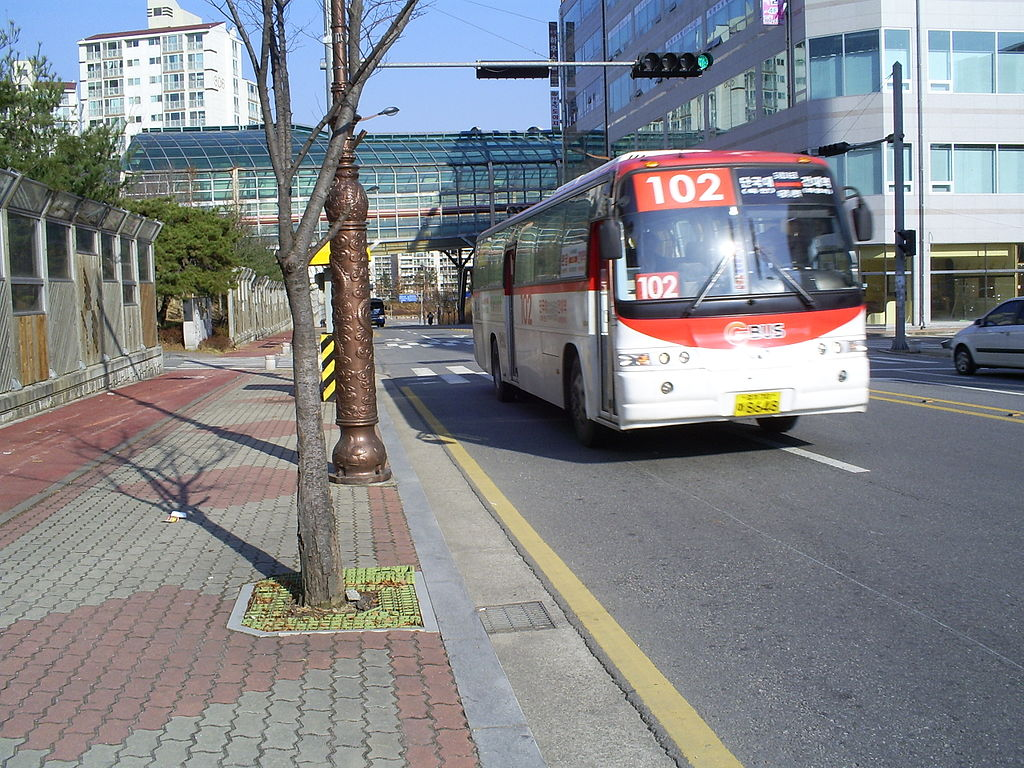bnum: (638, 170, 733, 208)
